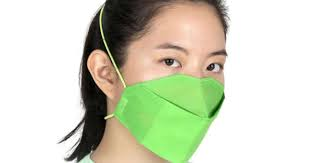with-mask: (88, 1, 229, 163)
